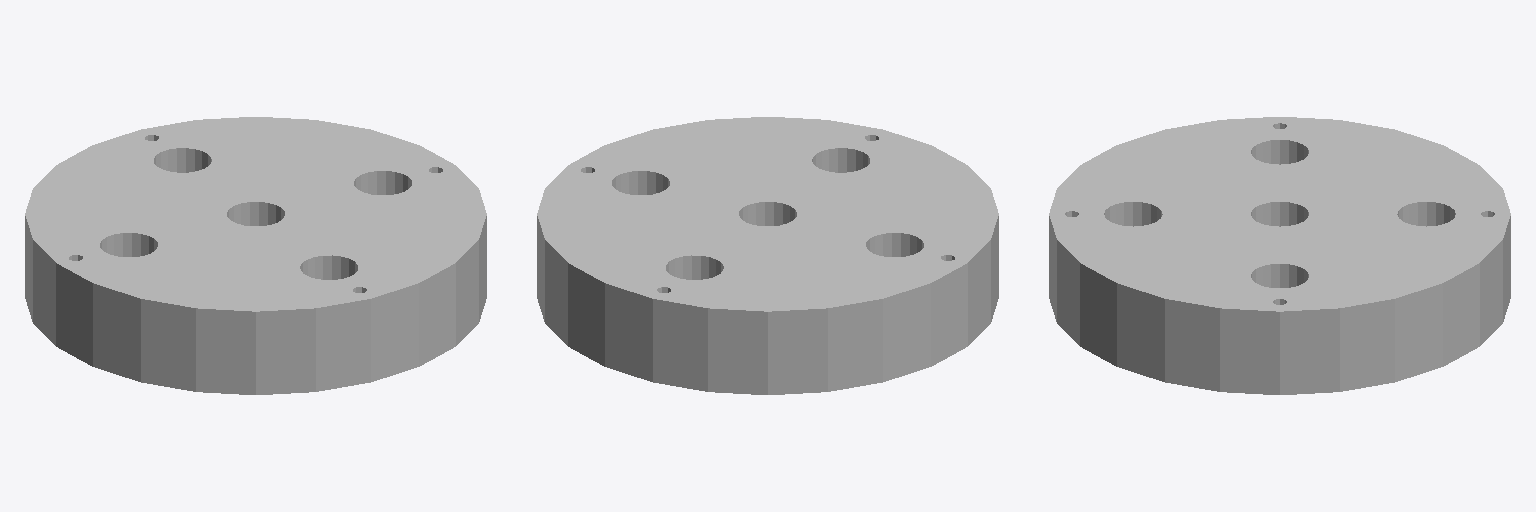
Rendered from idea_gear_base.obj.
3 views of the same model, side by side, from view 1: azimuth 30°, elevation 25°; view 2: azimuth 150°, elevation 25°; view 3: azimuth 270°, elevation 25° (orthographic).
Visible parts, largest first — view 1: 1; view 2: 1; view 3: 1.
Boxes of the visible parts, <box> form: 1: <box>25,117,486,394</box>; 1: <box>537,117,998,394</box>; 1: <box>1049,117,1510,394</box>.
Bounding box in the file's own units: 100 × 20 × 100.